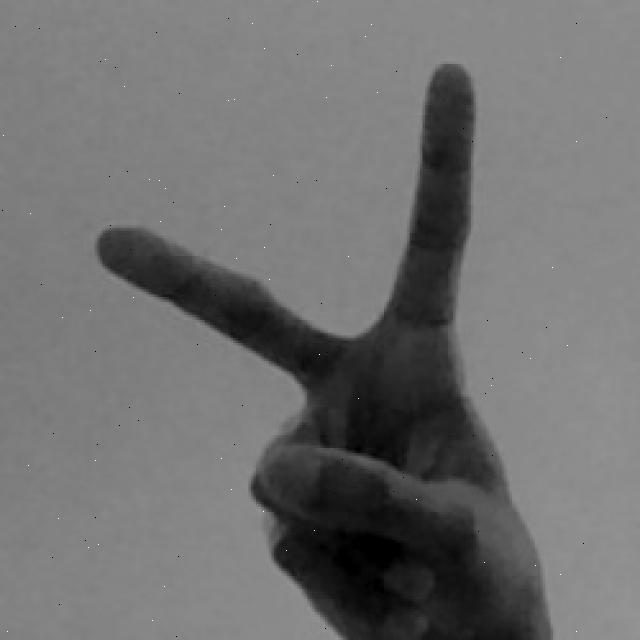K: (91, 58, 558, 640)
